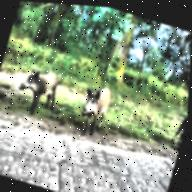boar: (11, 63, 63, 121), (75, 81, 114, 140)
